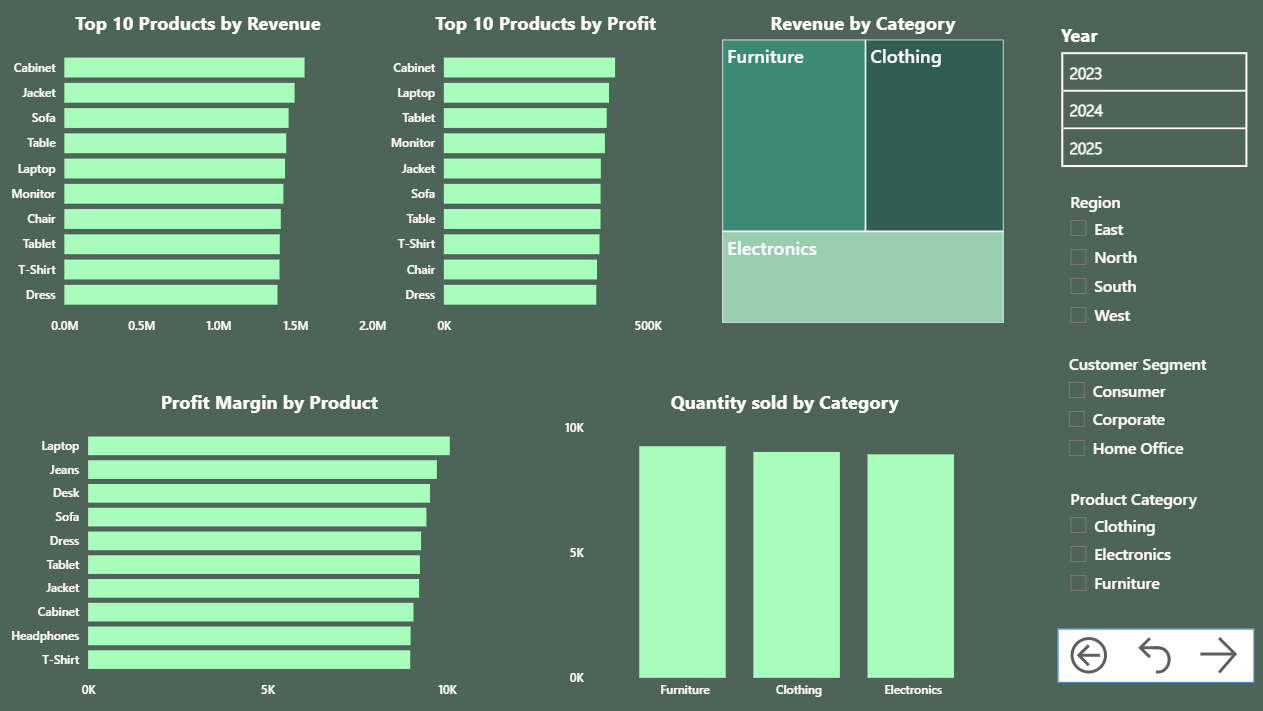

The page's visual inventory and layout, read from the dashboard file:
{"tool":"powerbi","page":{"name":"Product Analysis","canvas":[1280,720],"ordinal":2},"visuals":[{"type":"shape","box":[1056,0,222.7,721.3],"z":0,"group":"g2"},{"type":"clusteredBarChart","title":"Top 10 Products by Revenue","fields":{"Category":["cleaned_retail_sales.Product_Name"],"Y":["Sum(cleaned_retail_sales.Revenue)"]},"box":[0,0,400,352],"z":1000},{"type":"clusteredBarChart","title":"Top 10 Products by Profit","fields":{"Category":["cleaned_retail_sales.Product_Name"],"Y":["Sum(cleaned_retail_sales.Profit)"]},"box":[384,0,336,352],"z":2000},{"type":"treemap","title":"Revenue by Category","fields":{"Group":["cleaned_retail_sales.Product_Category"],"Values":["Sum(cleaned_retail_sales.Revenue)"]},"box":[720,0,304,336],"z":3000},{"type":"clusteredBarChart","title":"Profit Margin by Product","fields":{"Category":["cleaned_retail_sales.Product_Name"],"Y":["Sum(cleaned_retail_sales.Profit Margin)"]},"box":[0,384,544,336],"z":4000},{"type":"clusteredColumnChart","title":"Quantity sold by Category","fields":{"Category":["cleaned_retail_sales.Product_Category"],"Y":["Sum(cleaned_retail_sales.Quantity)"]},"box":[560,384,464,336],"z":5000},{"type":"advancedSlicerVisual","fields":{"Values":["cleaned_retail_sales.OrderMonth.Variation.Date Hierarchy.Year"]},"box":[1067,23.3,199,152.3],"z":6000,"group":"g2"},{"type":"slicer","fields":{"Values":["Dim_Geography.Region"]},"box":[1068.4,188,199,149.6],"z":7000,"group":"g2"},{"type":"slicer","fields":{"Values":["Dim_Customer.Customer_Segment"]},"box":[1067,351.3,199,122.1],"z":8000,"group":"g2"},{"type":"slicer","fields":{"Values":["cleaned_retail_sales.Product_Category"]},"box":[1068.4,487.2,199,120.8],"z":9000,"group":"g2"},{"type":"shape","box":[1068.4,634.4,199,54.9],"z":10000,"group":"g1"},{"type":"actionButton","box":[1075.3,637.1,54.9,48],"z":11000,"group":"g1"},{"type":"actionButton","box":[1142.5,637.1,52.1,48],"z":12000,"group":"g1"},{"type":"actionButton","box":[1207,637.1,54.9,48],"z":13000,"group":"g1"},{"type":"group","id":"g1","title":"Group 1","box":[1068.4,634.4,199,54.9],"z":13001,"group":"g2"},{"type":"group","id":"g2","title":"Field Pane","box":[1056,0,224,720],"z":13002}]}

Visuals, with their boxes in screenshot pixels (x1, y1, x2, y2), scaled from the page's 1280x720 canvas onto the 1263x711 screenshot:
shape: [x1=1042, y1=0, x2=1262, y2=710]
"Top 10 Products by Revenue" clusteredBarChart: [x1=0, y1=0, x2=395, y2=348]
"Top 10 Products by Profit" clusteredBarChart: [x1=379, y1=0, x2=710, y2=348]
"Revenue by Category" treemap: [x1=710, y1=0, x2=1010, y2=332]
"Profit Margin by Product" clusteredBarChart: [x1=0, y1=379, x2=537, y2=710]
"Quantity sold by Category" clusteredColumnChart: [x1=553, y1=379, x2=1010, y2=710]
advancedSlicerVisual - cleaned_retail_sales.OrderMonth.Variation.Date Hierarchy.Year: [x1=1053, y1=23, x2=1249, y2=173]
slicer - Dim_Geography.Region: [x1=1054, y1=186, x2=1251, y2=333]
slicer - Dim_Customer.Customer_Segment: [x1=1053, y1=347, x2=1249, y2=467]
slicer - cleaned_retail_sales.Product_Category: [x1=1054, y1=481, x2=1251, y2=600]
shape: [x1=1054, y1=626, x2=1251, y2=681]
actionButton: [x1=1061, y1=629, x2=1115, y2=677]
actionButton: [x1=1127, y1=629, x2=1179, y2=677]
actionButton: [x1=1191, y1=629, x2=1245, y2=677]
"Group 1" group: [x1=1054, y1=626, x2=1251, y2=681]
"Field Pane" group: [x1=1042, y1=0, x2=1262, y2=710]
